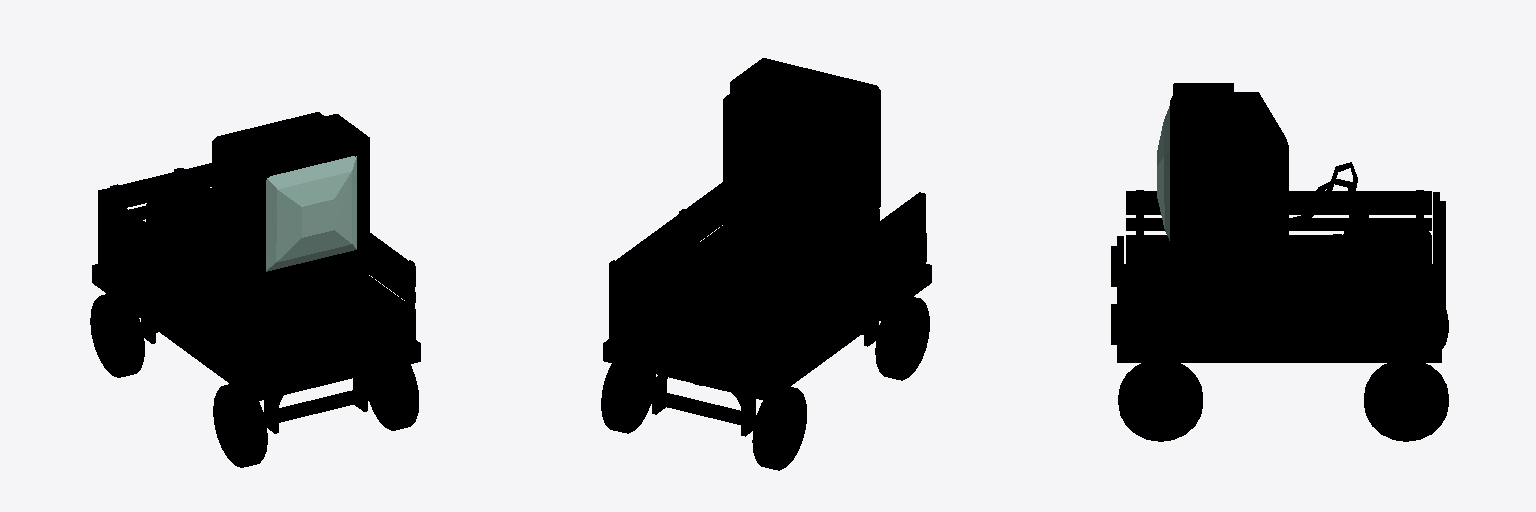
Rendered from CRTTv.OBJ.
3 views of the same model, side by side, from view 1: azimuth 30°, elevation 25°; view 2: azimuth 150°, elevation 25°; view 3: azimuth 270°, elevation 25° (orthographic).
Visible parts, largest first — view 1: CRTTv:polySurface46 CRTTv:polySurface4 CRTTv:CRTTv:Group12334, CRTTv:polySurface4 CRTTv:CRTTv:Group12334 CRTTv:polySurface47, CRTTv:CRTTv:Group12334 CRTTv:polySurface5, CRTTv:CRTTv:Group12334 CRTTv:polySurface6, CRTTv:CRTTv:Group12334 CRTTv:polySurface45, CRTTv:CRTTv:Group12334 CRTTv:polySurface8, CRTTv:CRTTv:Group12334 CRTTv:polySurface27, CRTTv:CRTTv:polySurface19 CRTTv:polySurface21, CRTTv:CRTTv:polySurface19 CRTTv:polySurface24, CRTTv:CRTTv:Group12334 CRTTv:polySurface9, CRTTv:polySurface20 CRTTv:CRTTv:polySurface19, CRTTv:CRTTv:Group12334 CRTTv:polySurface28 (+10 smaller); view 2: CRTTv:polySurface46 CRTTv:polySurface4 CRTTv:CRTTv:Group12334, CRTTv:CRTTv:Group12334 CRTTv:polySurface5, CRTTv:CRTTv:Group12334 CRTTv:polySurface40, CRTTv:CRTTv:Group12334 CRTTv:polySurface8, CRTTv:CRTTv:Group12334 CRTTv:polySurface9, CRTTv:CRTTv:Group12334 CRTTv:polySurface27, CRTTv:CRTTv:Group12334 CRTTv:polySurface38, CRTTv:CRTTv:polySurface19 CRTTv:polySurface24, CRTTv:CRTTv:polySurface19 CRTTv:polySurface21, CRTTv:CRTTv:polySurface19 CRTTv:polySurface22, CRTTv:CRTTv:Group12334 CRTTv:polySurface34, CRTTv:CRTTv:Group12334 CRTTv:polySurface28 (+12 smaller); view 3: CRTTv:polySurface46 CRTTv:polySurface4 CRTTv:CRTTv:Group12334, CRTTv:CRTTv:Group12334 CRTTv:polySurface32, CRTTv:CRTTv:Group12334 CRTTv:polySurface34, CRTTv:CRTTv:Group12334 CRTTv:polySurface5, CRTTv:polySurface20 CRTTv:CRTTv:polySurface19, CRTTv:CRTTv:polySurface19 CRTTv:polySurface22, CRTTv:CRTTv:Group12334 CRTTv:polySurface9, CRTTv:CRTTv:Group12334 CRTTv:polySurface33, CRTTv:CRTTv:Group12334 CRTTv:polySurface27, CRTTv:CRTTv:Group12334 CRTTv:polySurface8, CRTTv:CRTTv:Group12334 CRTTv:polySurface28, CRTTv:CRTTv:Group12334 CRTTv:polySurface6 (+7 smaller).
Boxes of the visible parts, x1=… form: CRTTv:polySurface46 CRTTv:polySurface4 CRTTv:CRTTv:Group12334: x1=212, y1=112, x2=369, y2=302; CRTTv:polySurface4 CRTTv:CRTTv:Group12334 CRTTv:polySurface47: x1=266, y1=156, x2=356, y2=271; CRTTv:CRTTv:Group12334 CRTTv:polySurface5: x1=92, y1=257, x2=420, y2=401; CRTTv:CRTTv:Group12334 CRTTv:polySurface6: x1=180, y1=279, x2=373, y2=350; CRTTv:CRTTv:Group12334 CRTTv:polySurface45: x1=256, y1=312, x2=415, y2=379; CRTTv:CRTTv:Group12334 CRTTv:polySurface8: x1=108, y1=239, x2=257, y2=377; CRTTv:CRTTv:Group12334 CRTTv:polySurface27: x1=99, y1=193, x2=257, y2=326; CRTTv:CRTTv:polySurface19 CRTTv:polySurface21: x1=213, y1=384, x2=267, y2=467; CRTTv:CRTTv:polySurface19 CRTTv:polySurface24: x1=90, y1=294, x2=144, y2=377; CRTTv:CRTTv:Group12334 CRTTv:polySurface9: x1=146, y1=188, x2=211, y2=270; CRTTv:polySurface20 CRTTv:CRTTv:polySurface19: x1=365, y1=364, x2=418, y2=430; CRTTv:CRTTv:Group12334 CRTTv:polySurface28: x1=108, y1=222, x2=257, y2=342; CRTTv:polySurface46 CRTTv:polySurface4 CRTTv:CRTTv:Group12334: x1=723, y1=58, x2=880, y2=263; CRTTv:CRTTv:Group12334 CRTTv:polySurface5: x1=603, y1=256, x2=931, y2=401; CRTTv:CRTTv:Group12334 CRTTv:polySurface40: x1=609, y1=311, x2=768, y2=378; CRTTv:CRTTv:Group12334 CRTTv:polySurface8: x1=767, y1=239, x2=915, y2=376; CRTTv:CRTTv:Group12334 CRTTv:polySurface9: x1=638, y1=252, x2=780, y2=347; CRTTv:CRTTv:Group12334 CRTTv:polySurface27: x1=767, y1=192, x2=925, y2=326; CRTTv:CRTTv:Group12334 CRTTv:polySurface38: x1=609, y1=267, x2=768, y2=328; CRTTv:CRTTv:polySurface19 CRTTv:polySurface24: x1=752, y1=387, x2=806, y2=470; CRTTv:CRTTv:polySurface19 CRTTv:polySurface21: x1=875, y1=297, x2=929, y2=380; CRTTv:CRTTv:polySurface19 CRTTv:polySurface22: x1=601, y1=364, x2=655, y2=433; CRTTv:CRTTv:Group12334 CRTTv:polySurface34: x1=609, y1=182, x2=722, y2=272; CRTTv:CRTTv:Group12334 CRTTv:polySurface28: x1=767, y1=222, x2=915, y2=342; CRTTv:polySurface46 CRTTv:polySurface4 CRTTv:CRTTv:Group12334: x1=1170, y1=83, x2=1288, y2=267; CRTTv:CRTTv:Group12334 CRTTv:polySurface32: x1=1126, y1=312, x2=1431, y2=342; CRTTv:CRTTv:Group12334 CRTTv:polySurface34: x1=1126, y1=268, x2=1431, y2=291; CRTTv:CRTTv:Group12334 CRTTv:polySurface5: x1=1117, y1=264, x2=1441, y2=362; CRTTv:polySurface20 CRTTv:CRTTv:polySurface19: x1=1118, y1=363, x2=1202, y2=441; CRTTv:CRTTv:polySurface19 CRTTv:polySurface22: x1=1364, y1=363, x2=1448, y2=441; CRTTv:CRTTv:Group12334 CRTTv:polySurface9: x1=1326, y1=222, x2=1430, y2=311; CRTTv:CRTTv:Group12334 CRTTv:polySurface33: x1=1126, y1=295, x2=1431, y2=307; CRTTv:CRTTv:Group12334 CRTTv:polySurface27: x1=1126, y1=191, x2=1431, y2=214; CRTTv:CRTTv:Group12334 CRTTv:polySurface8: x1=1126, y1=235, x2=1431, y2=264; CRTTv:CRTTv:Group12334 CRTTv:polySurface28: x1=1126, y1=218, x2=1431, y2=230; CRTTv:CRTTv:Group12334 CRTTv:polySurface6: x1=1132, y1=238, x2=1325, y2=348.
Bounding box in the file's own units: 606 × 936 × 985.